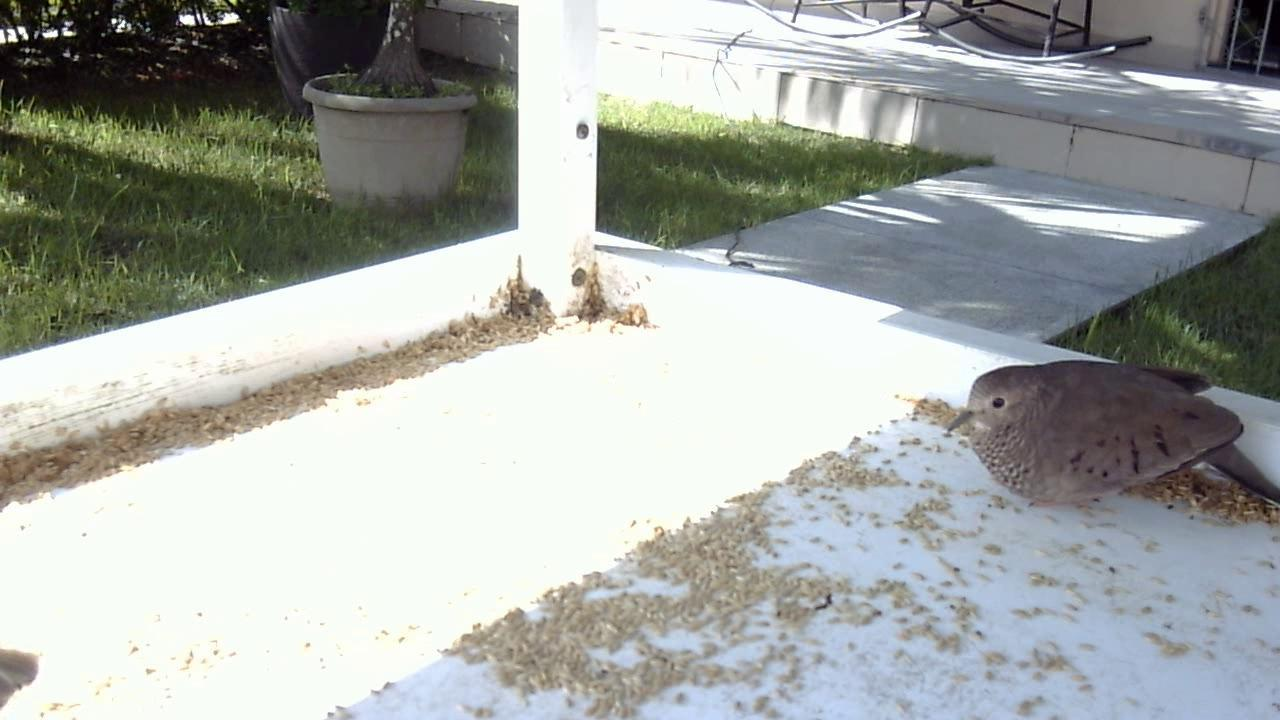rolinha: (931, 351, 1264, 529)
